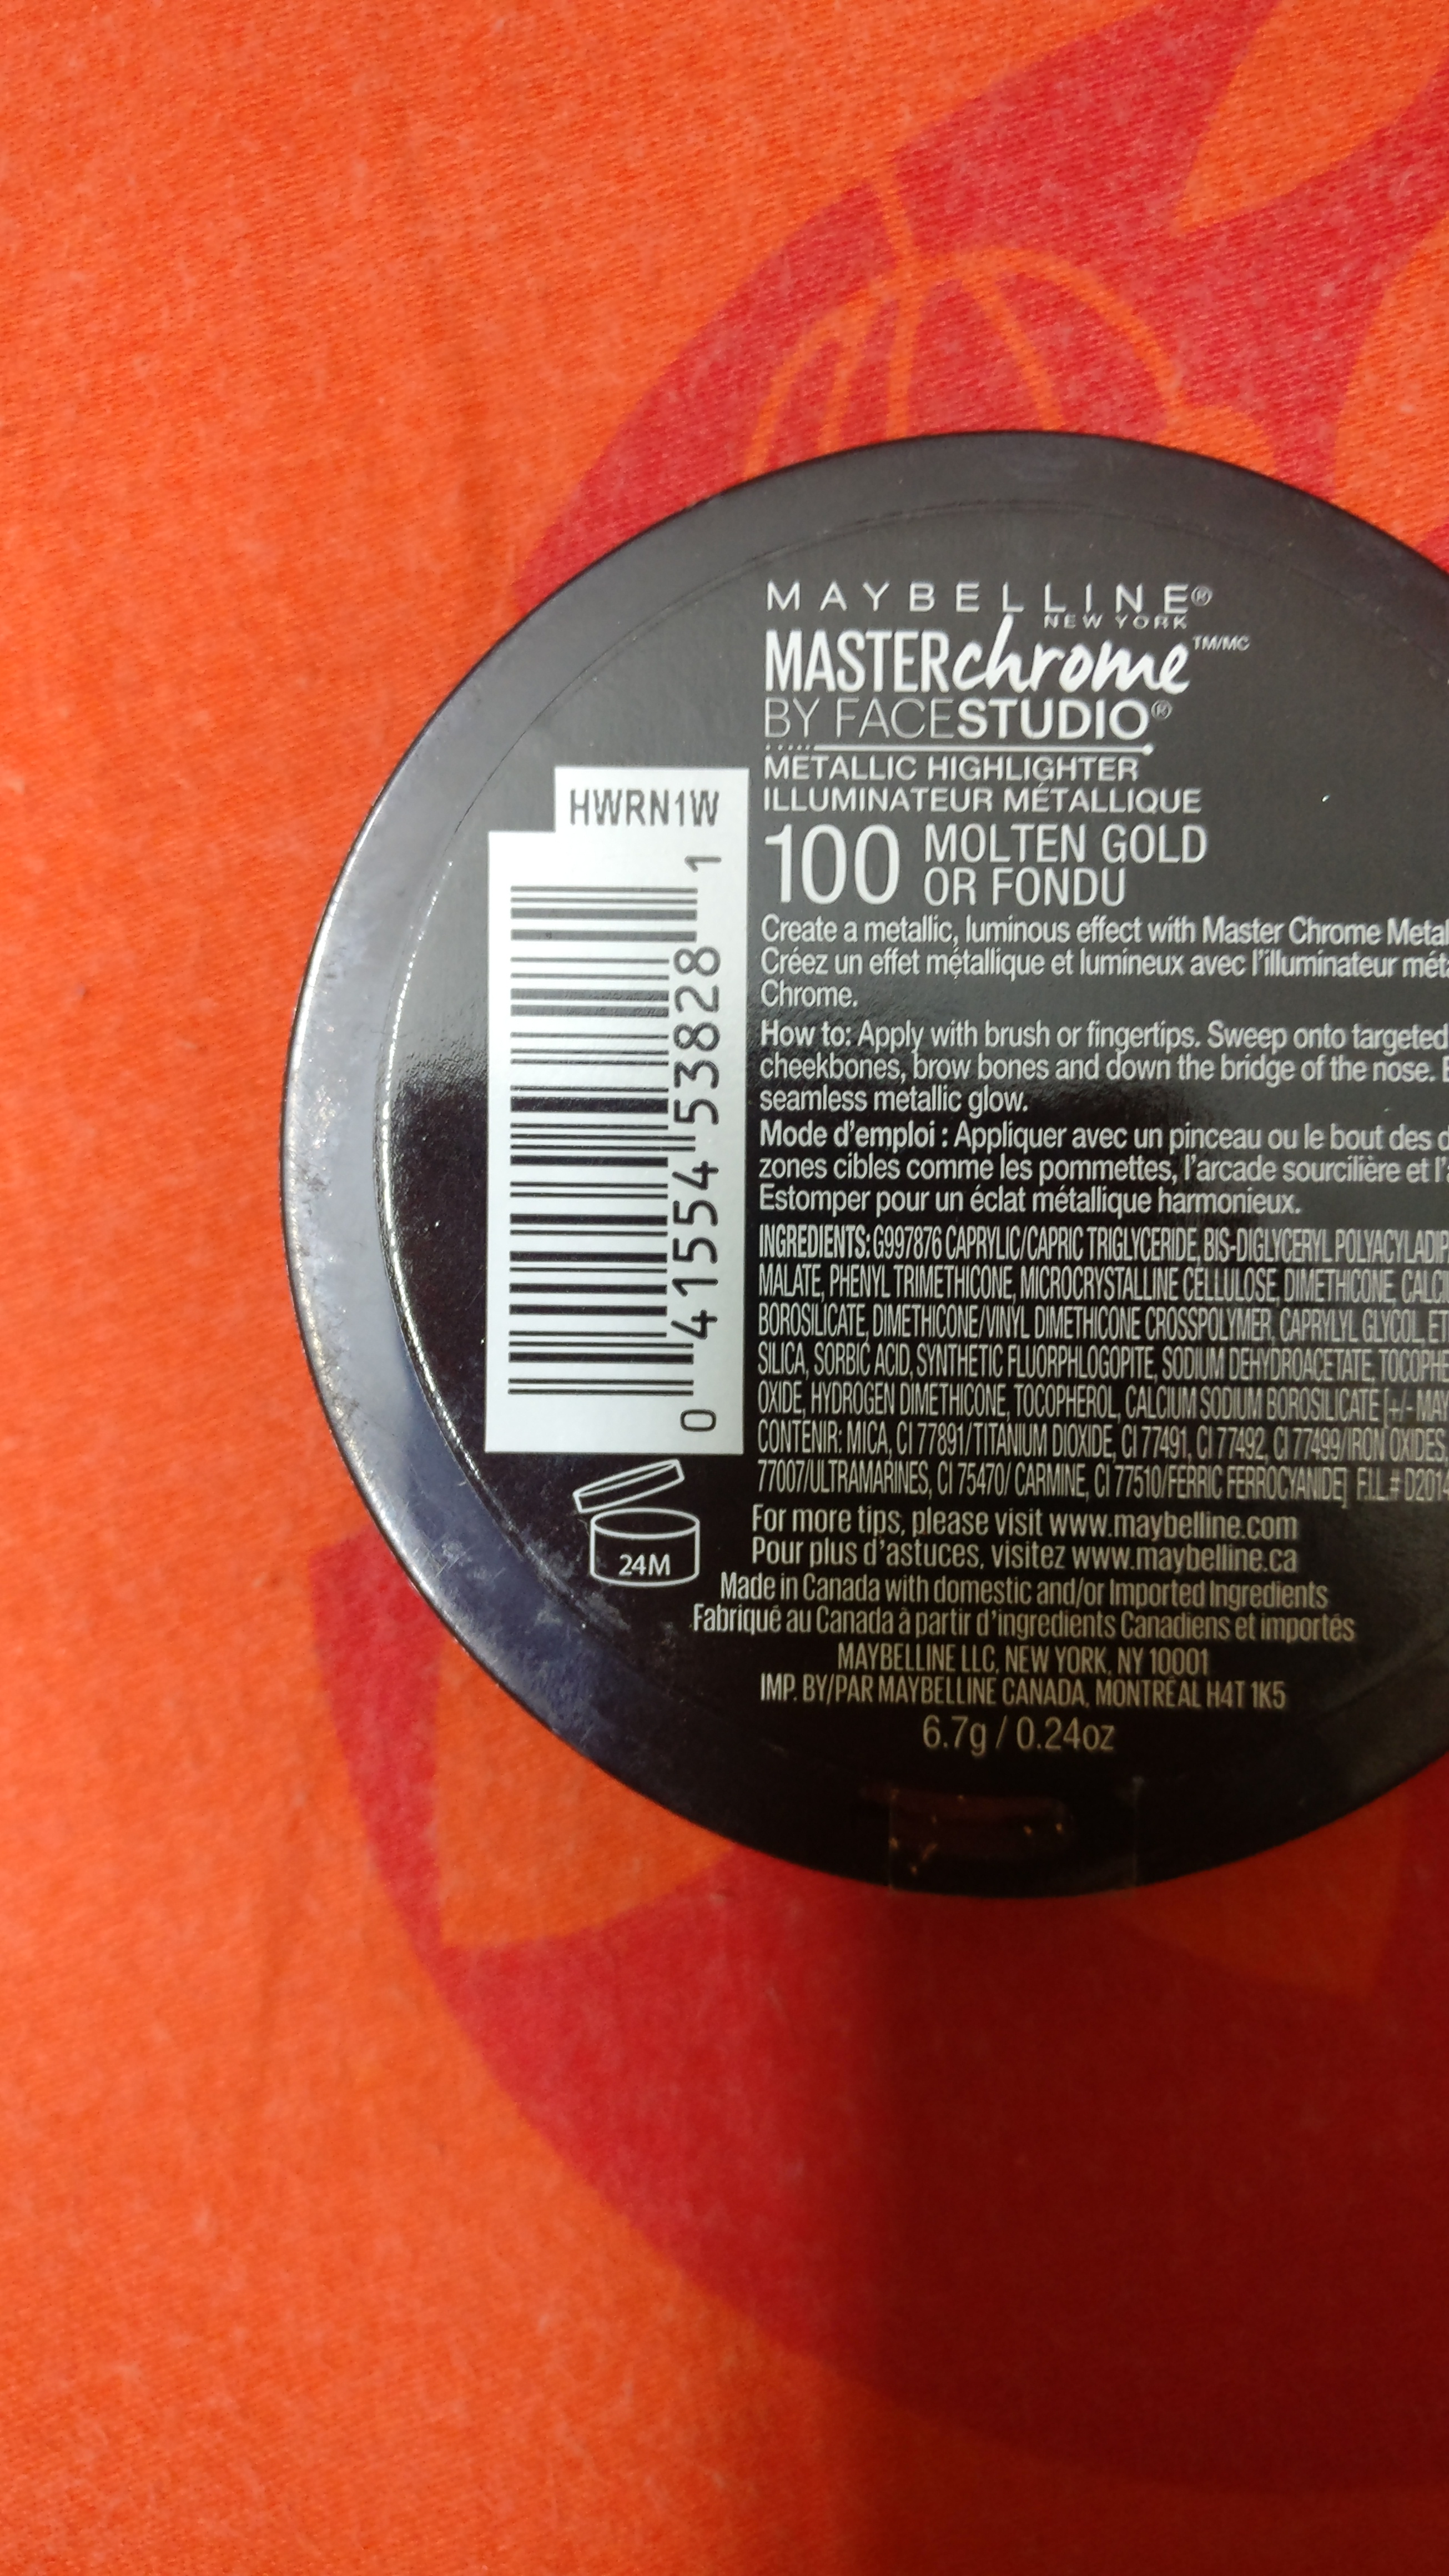barcode: (487, 824, 770, 1440)
